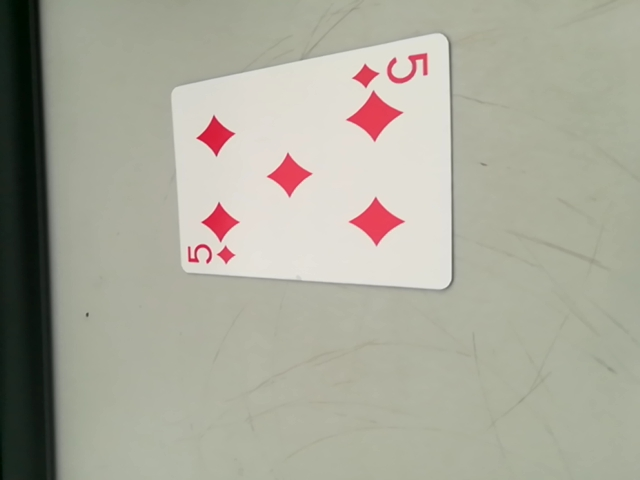fk 5: (352, 49, 431, 93), (184, 239, 240, 270)
